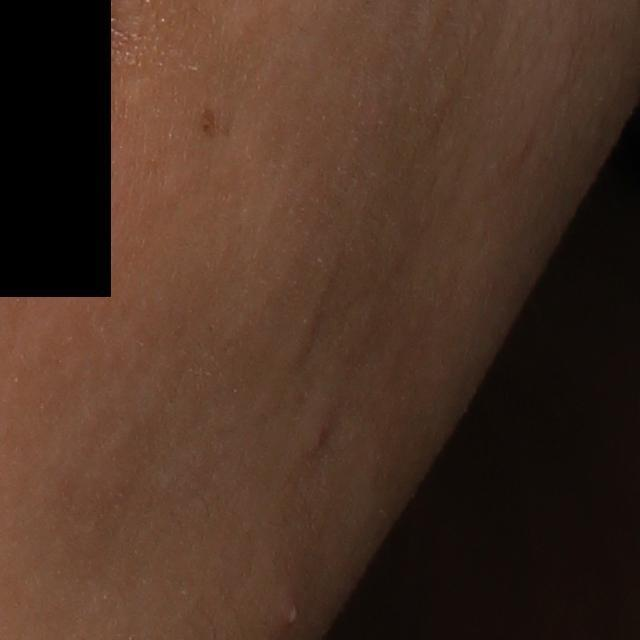papule: (309, 422, 331, 454)
pustule: (276, 584, 306, 634)
